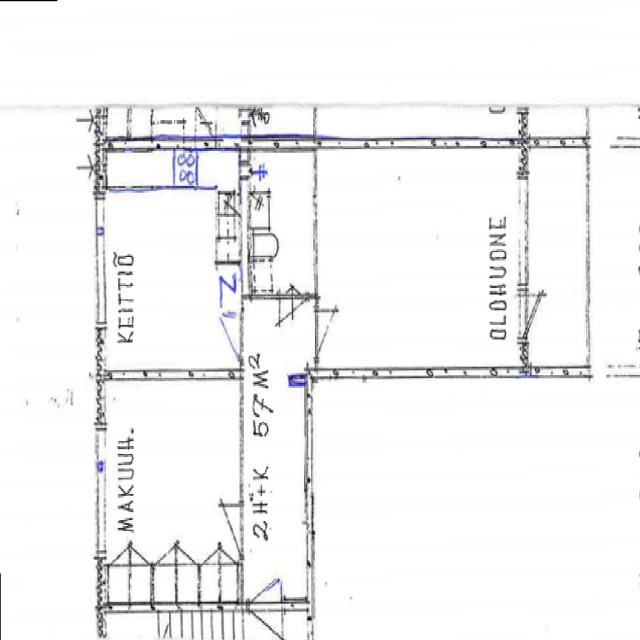door: (250, 548, 282, 612), (519, 293, 558, 340), (314, 310, 348, 358), (210, 312, 244, 360), (210, 505, 244, 551), (278, 293, 306, 342), (250, 600, 282, 640)
